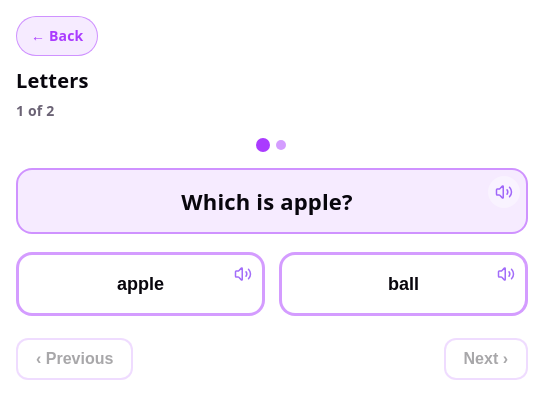
Test: BundlePlayer — multiple choice › celebrates exactly once on completion
Expected: the text "Which is apple?" is shown, [181,188,353,214]
Click the button "apple".
click(140, 284)  # box [16,252,265,316]
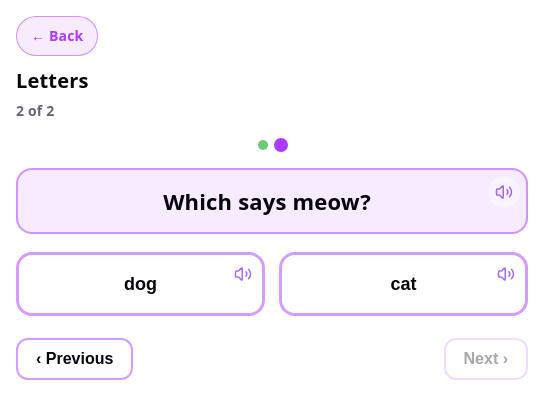
Expected: the text "Which says meow?" is shown, [163,188,371,214]
Click the button "cat".
click(404, 284)  # box [279,252,528,316]
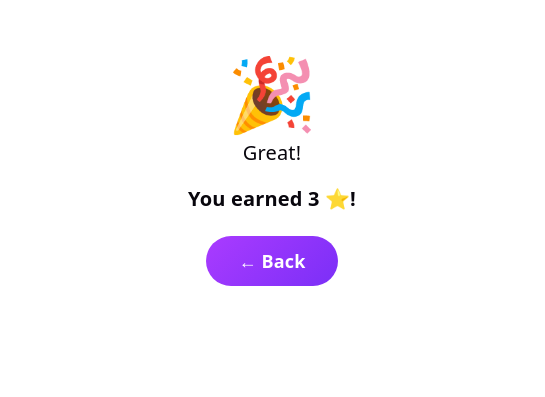
Expected: the heading "Great!" is shown, [243,139,301,166]
Expected: the text "You earned 3 ⭐!" is shown, [188,185,356,212]
